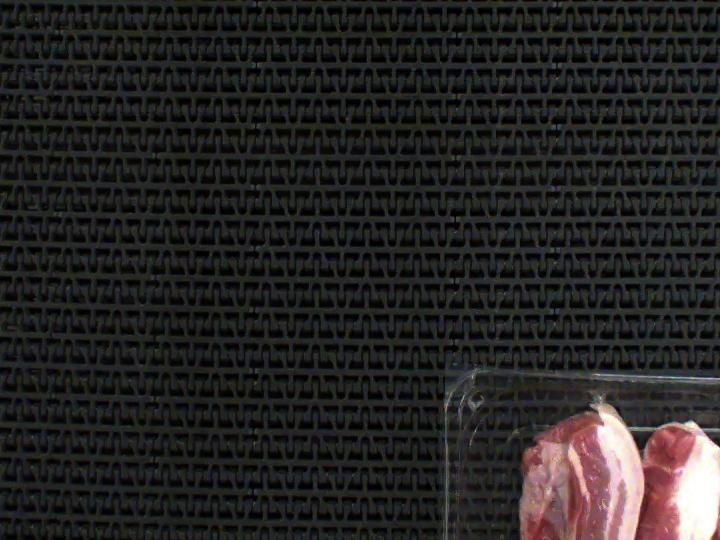packaging-error: (578, 386, 609, 409)
